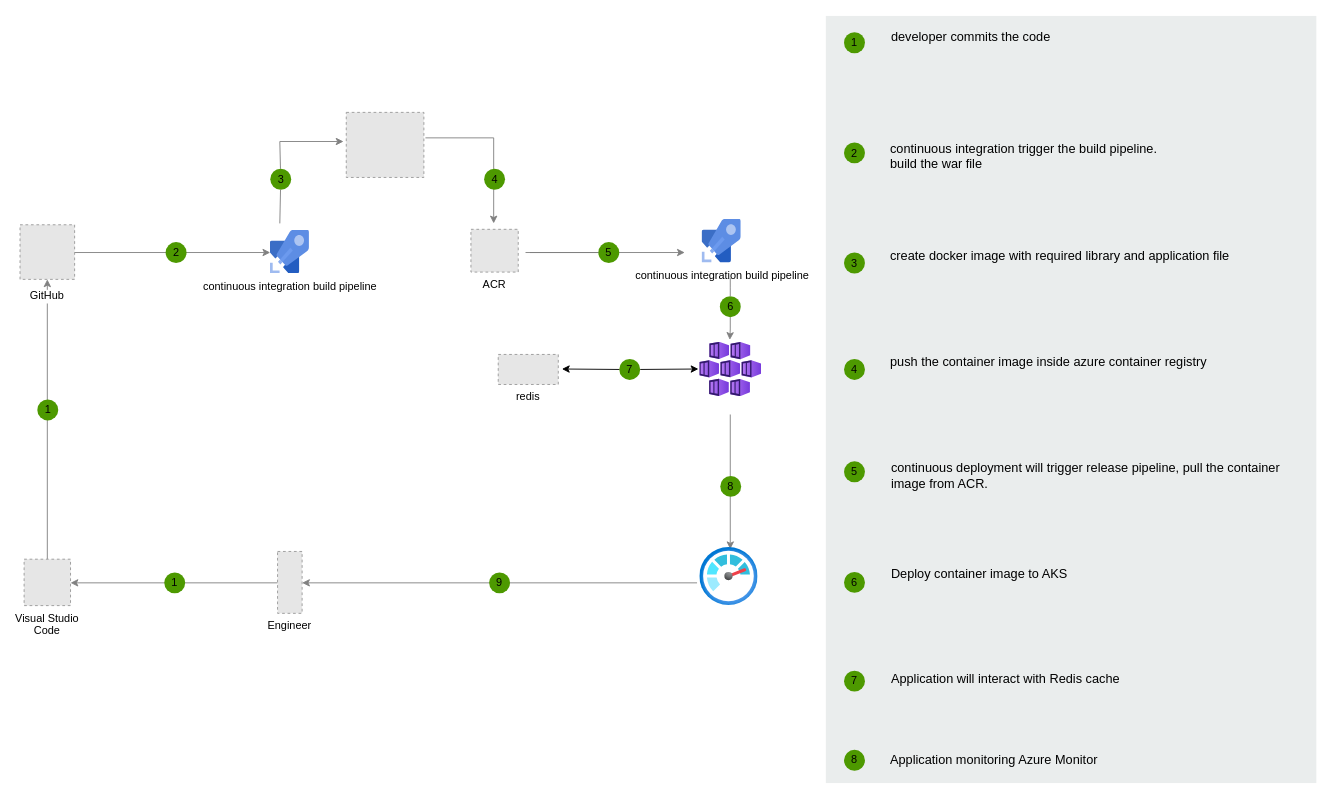
Some shapes in this 1332 by 803 pixel diagram are drawn without their labels. Grey dashed boxes stand in for pictures. Here are the shapes that lost their labels. From the top down, the box of each, then its label:
(699, 342, 761, 396): AKS
(699, 547, 758, 605): Azure Monitor
